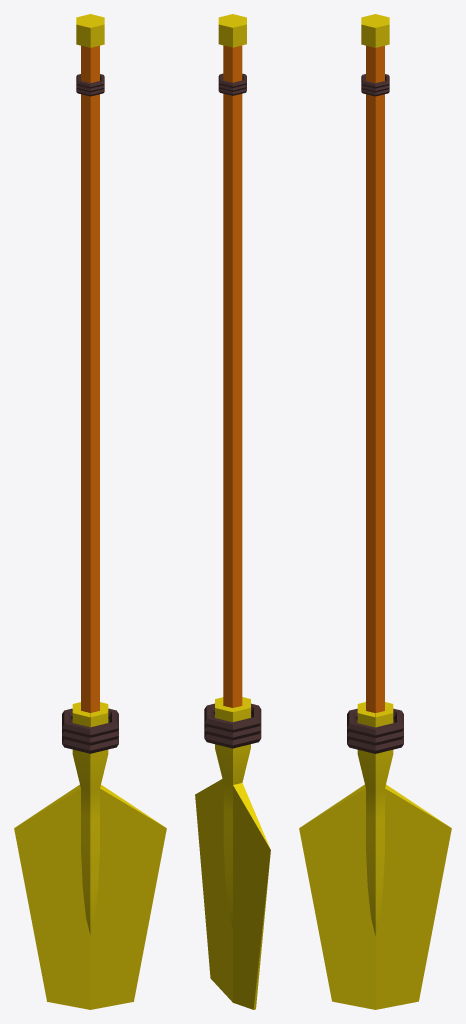
Rendered from Oar.fbx.
The picture shows the model from 3 angles, left to right: view 1: azimuth 90°, elevation 25°; view 2: azimuth 210°, elevation 25°; view 3: azimuth 270°, elevation 25°; orthographic projection.
Parts seen in each view (by area): view 1: pCylinder5; view 2: pCylinder5; view 3: pCylinder5.
Boxes of the visible parts, x1,y1,x2,y2 form: pCylinder5: (14,14,166,1009); pCylinder5: (195,14,270,1009); pCylinder5: (299,14,451,1009).
Bounding box in the file's own units: 1.2 × 19.8 × 2.77.
